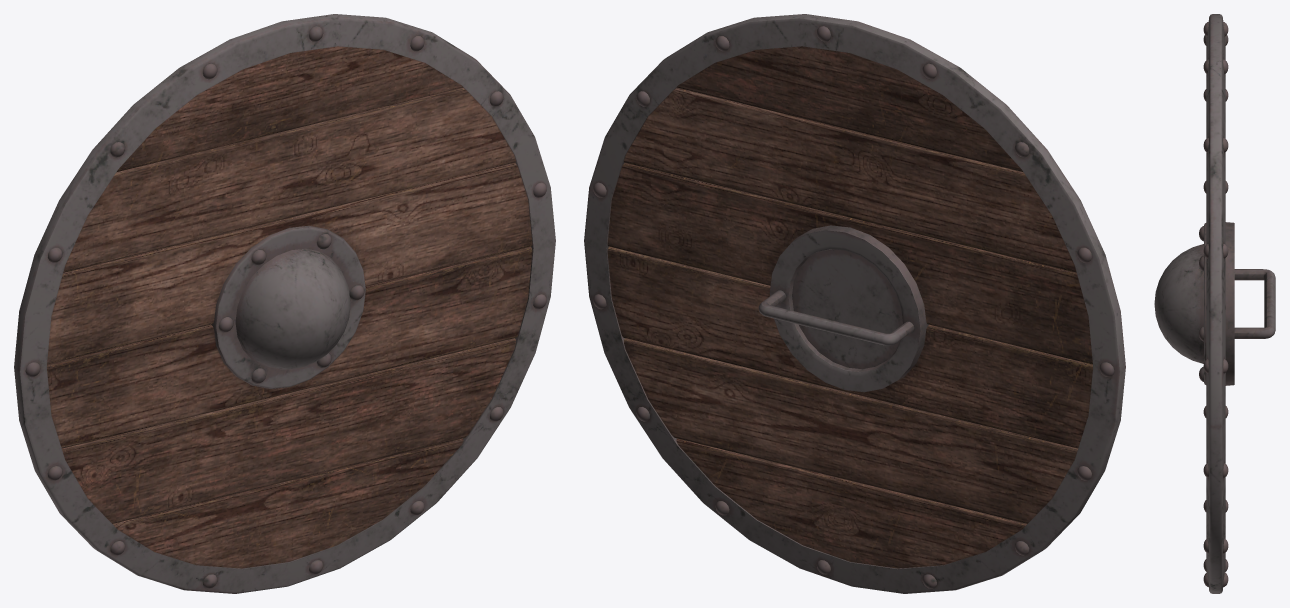
File: Shield.gltf
3 views of the same model, side by side, from view 1: azimuth 30°, elevation 25°; view 2: azimuth 150°, elevation 25°; view 3: azimuth 270°, elevation 25° (orthographic). The views are drawn at different scales.
Visible parts, largest first — view 1: SM_Shield_01; view 2: SM_Shield_01; view 3: SM_Shield_01.
Boxes of the visible parts, x1=… form: SM_Shield_01: x1=14, y1=14, x2=555, y2=593; SM_Shield_01: x1=584, y1=14, x2=1125, y2=593; SM_Shield_01: x1=1154, y1=14, x2=1275, y2=593.
Bounding box in the file's own units: 0.9415 × 0.9415 × 0.1963.
Materials: 1 (1 with a texture image).
